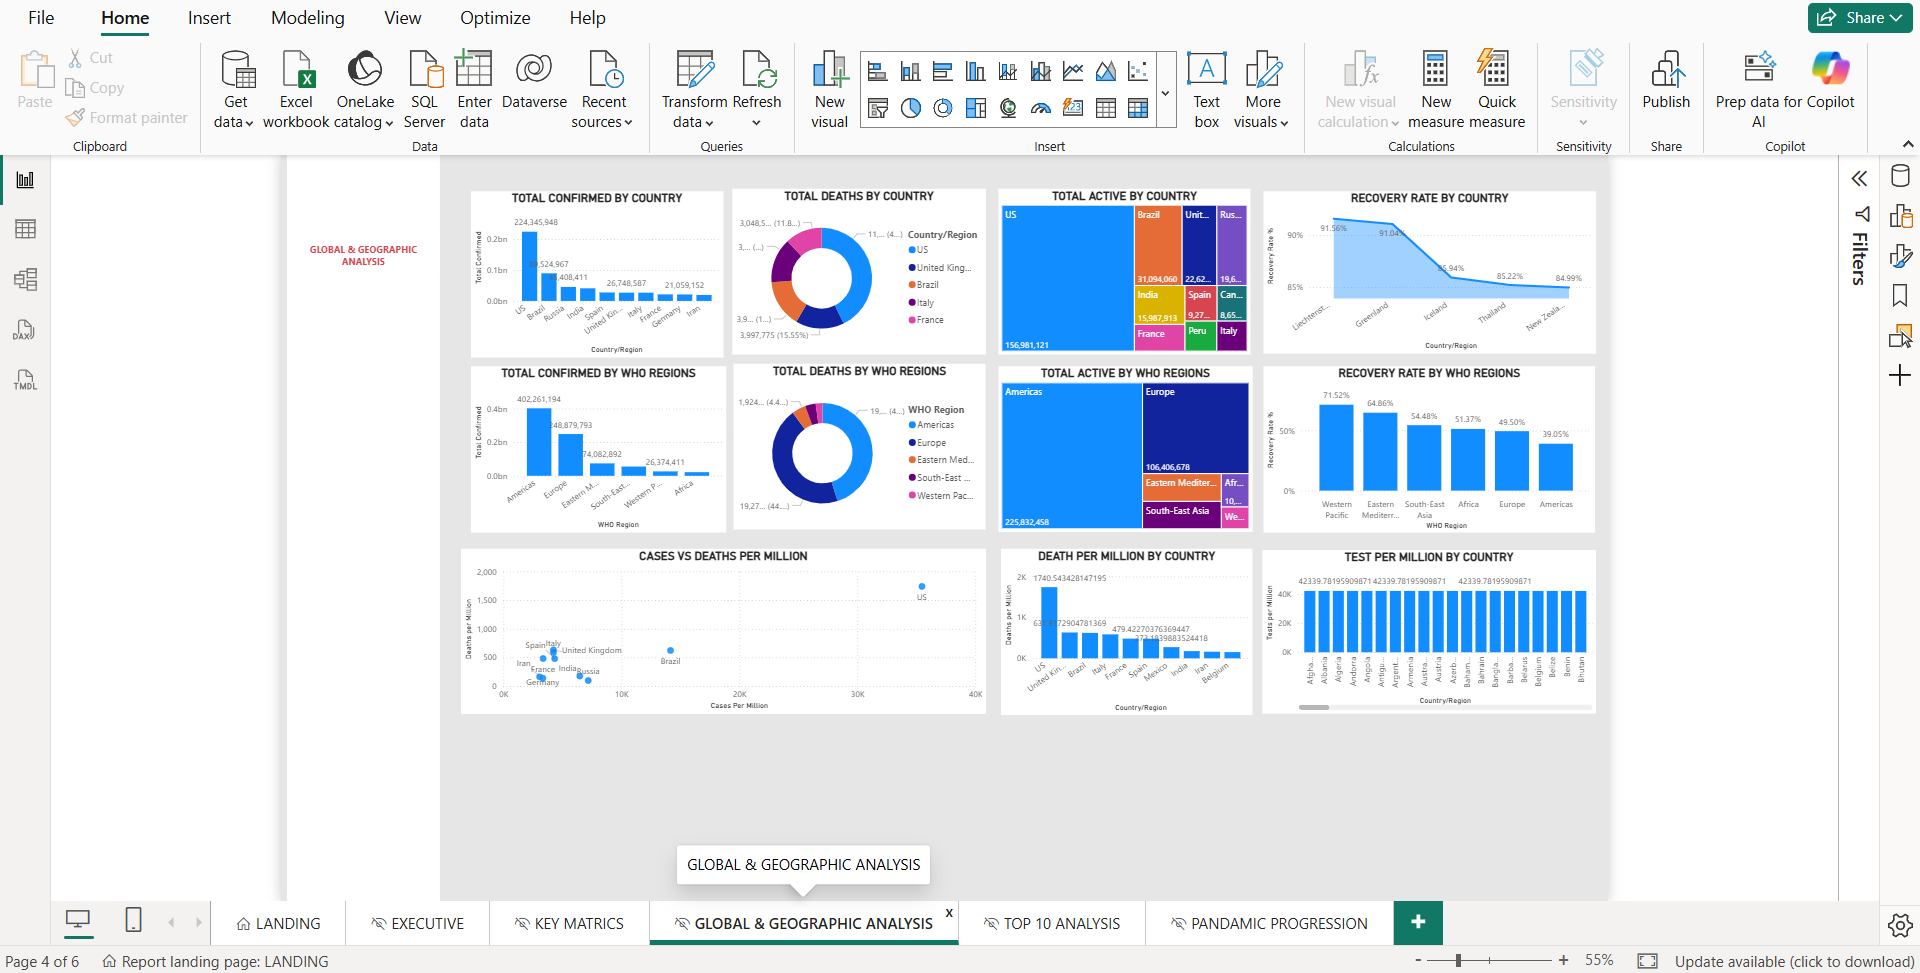

The dashboard page shown, as its layout file describes it:
{"tool":"powerbi","page":{"name":"GLOBAL & GEOGRAPHIC ANALYSIS","canvas":[1920,1080],"ordinal":3},"visuals":[{"type":"shape","box":[8.7,0,220.7,1079.9],"z":0},{"type":"clusteredColumnChart","title":"TOTAL CONFIRMED BY COUNTRY","fields":{"Category":["full_grouped.Country/Region"],"Y":["Measure Table.Total Confirmed"]},"box":[274.9,52,365.2,240.8],"z":1000},{"type":"donutChart","title":"TOTAL DEATHS BY COUNTRY","fields":{"Category":["full_grouped.Country/Region"],"Y":["Measure Table.Total Deaths"]},"box":[652.4,49.5,367.4,240.2],"z":2000},{"type":"treemap","title":"TOTAL ACTIVE BY COUNTRY","fields":{"Group":["full_grouped.Country/Region"],"Values":["Measure Table.Total Active"]},"box":[1038.7,49.5,365.1,240.2],"z":3000},{"type":"lineChart","title":"RECOVERY RATE BY COUNTRY","fields":{"Category":["full_grouped.Country/Region"],"Y":["Measure Table.Recovery Rate %"]},"box":[1422.4,52.5,481.4,235.3],"z":4000},{"type":"clusteredColumnChart","title":"TOTAL CONFIRMED BY WHO REGIONS","fields":{"Category":["full_grouped.WHO Region"],"Y":["Measure Table.Total Confirmed"]},"box":[274.2,305,369.3,240.6],"z":5000},{"type":"donutChart","title":"TOTAL DEATHS BY WHO REGIONS","fields":{"Category":["full_grouped.WHO Region"],"Y":["Measure Table.Total Deaths"]},"box":[655.6,302.6,364.9,240.3],"z":6000},{"type":"treemap","title":"TOTAL ACTIVE BY WHO REGIONS","fields":{"Group":["full_grouped.WHO Region"],"Values":["Measure Table.Total Active"]},"box":[1038.3,305.6,367.9,240.3],"z":7000},{"type":"clusteredColumnChart","title":"RECOVERY RATE BY WHO REGIONS","fields":{"Category":["full_grouped.WHO Region"],"Y":["Measure Table.Recovery Rate %"]},"box":[1422.9,305.1,480,241.1],"z":8000},{"type":"scatterChart","title":"CASES VS DEATHS PER MILLION","fields":{"Category":["full_grouped.Country/Region"],"X":["Measure Table.Cases Per Million"],"Y":["Measure Table.Deaths per Million"]},"box":[260.6,570,760.1,238.9],"z":9000},{"type":"clusteredColumnChart","title":"DEATH PER MILLION  BY COUNTRY","fields":{"Category":["full_grouped.Country/Region"],"Y":["Measure Table.Deaths per Million"]},"box":[1042.7,570.7,364,240.6],"z":10000},{"type":"clusteredColumnChart","title":"TEST PER MILLION  BY COUNTRY","fields":{"Category":["full_grouped.Country/Region"],"Y":["Measure Table.Tests per Million"]},"box":[1420.6,571.9,483.2,237.1],"z":11000},{"type":"actionButton","box":[9,117.6,220.8,54.3],"z":12000}]}

Visuals, with their boxes on the page's 1920x1080 design canvas (x1, y1, x2, y2). These are canvas units, not pixel positions in the 1920x973 screenshot, which may show the page scaled, cropped or inside an application window:
shape: 9/0/229/1080
"TOTAL CONFIRMED BY COUNTRY" clusteredColumnChart: 275/52/640/293
"TOTAL DEATHS BY COUNTRY" donutChart: 652/50/1020/290
"TOTAL ACTIVE BY COUNTRY" treemap: 1039/50/1404/290
"RECOVERY RATE BY COUNTRY" lineChart: 1422/52/1904/288
"TOTAL CONFIRMED BY WHO REGIONS" clusteredColumnChart: 274/305/644/546
"TOTAL DEATHS BY WHO REGIONS" donutChart: 656/303/1020/543
"TOTAL ACTIVE BY WHO REGIONS" treemap: 1038/306/1406/546
"RECOVERY RATE BY WHO REGIONS" clusteredColumnChart: 1423/305/1903/546
"CASES VS DEATHS PER MILLION" scatterChart: 261/570/1021/809
"DEATH PER MILLION  BY COUNTRY" clusteredColumnChart: 1043/571/1407/811
"TEST PER MILLION  BY COUNTRY" clusteredColumnChart: 1421/572/1904/809
actionButton: 9/118/230/172
